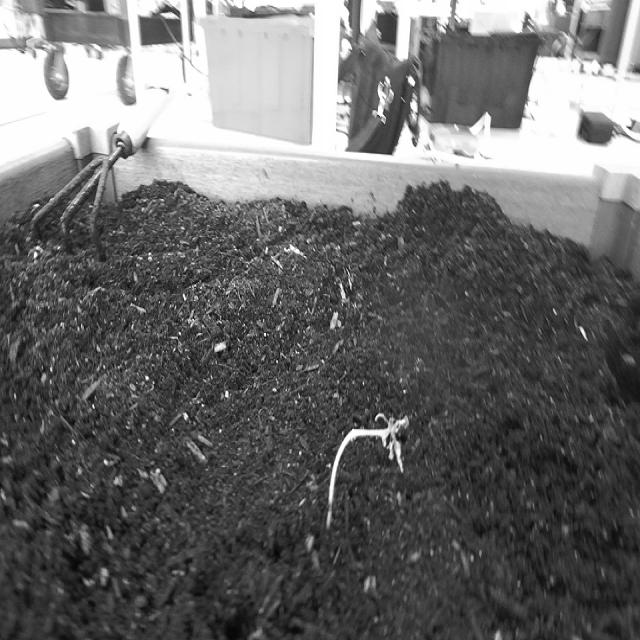Unhealthy: (324, 401, 413, 534)
